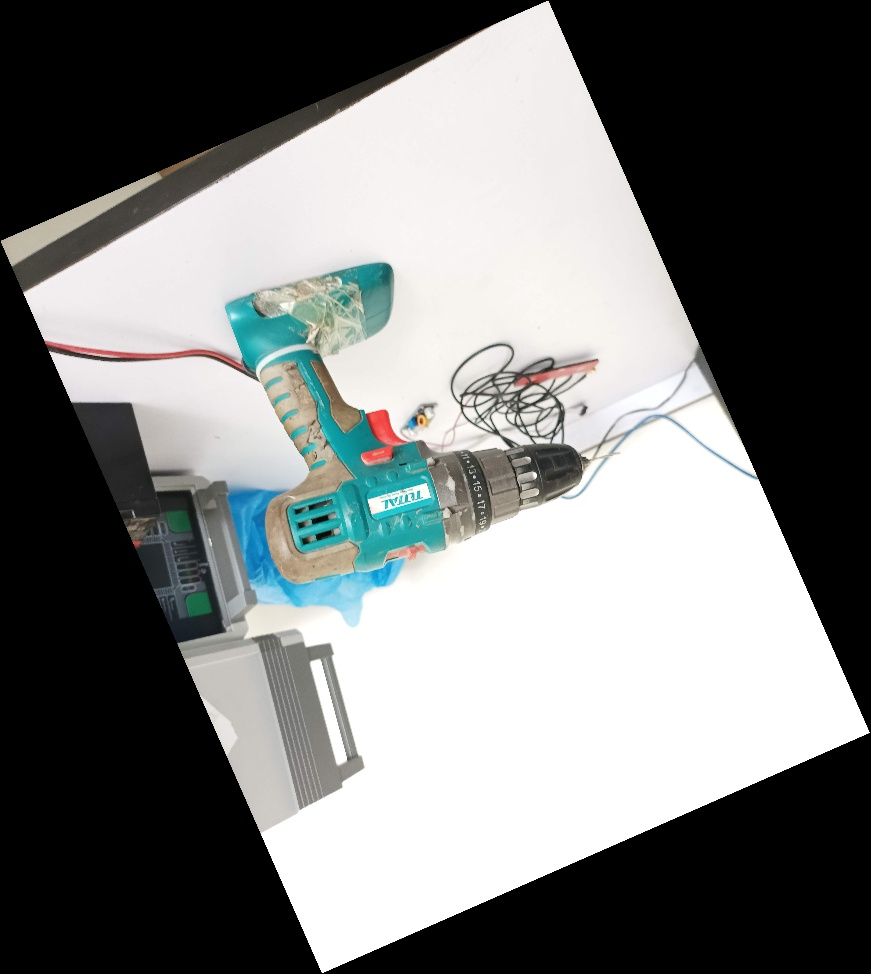driller: (221, 258, 625, 588)
